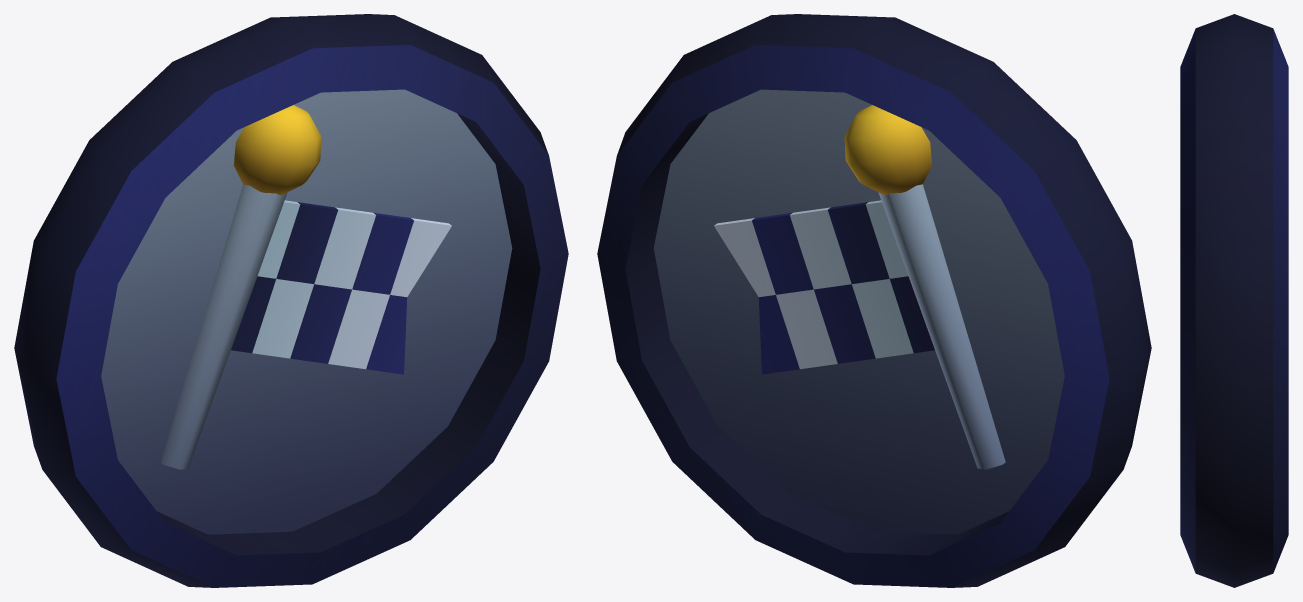
File: ModeIcons.fbx_Speedrun.fbx
3 views of the same model, side by side, from view 1: azimuth 30°, elevation 25°; view 2: azimuth 150°, elevation 25°; view 3: azimuth 270°, elevation 25° (orthographic). The views are drawn at different scales.
Visible parts, largest first — view 1: BackgroundSpeedrun, ModeSpeedrun; view 2: BackgroundSpeedrun, ModeSpeedrun; view 3: BackgroundSpeedrun.
Part boxes in pixels (box(x1,y1,x2,y2)): BackgroundSpeedrun: box(14, 14, 568, 587); ModeSpeedrun: box(160, 105, 451, 469); BackgroundSpeedrun: box(597, 14, 1151, 587); ModeSpeedrun: box(714, 105, 1005, 469); BackgroundSpeedrun: box(1180, 14, 1288, 587).
Bounding box in the file's own units: 2 × 2 × 0.3776.
